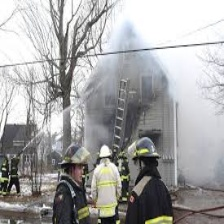smoke: (179, 58, 219, 172), (105, 24, 158, 85)
